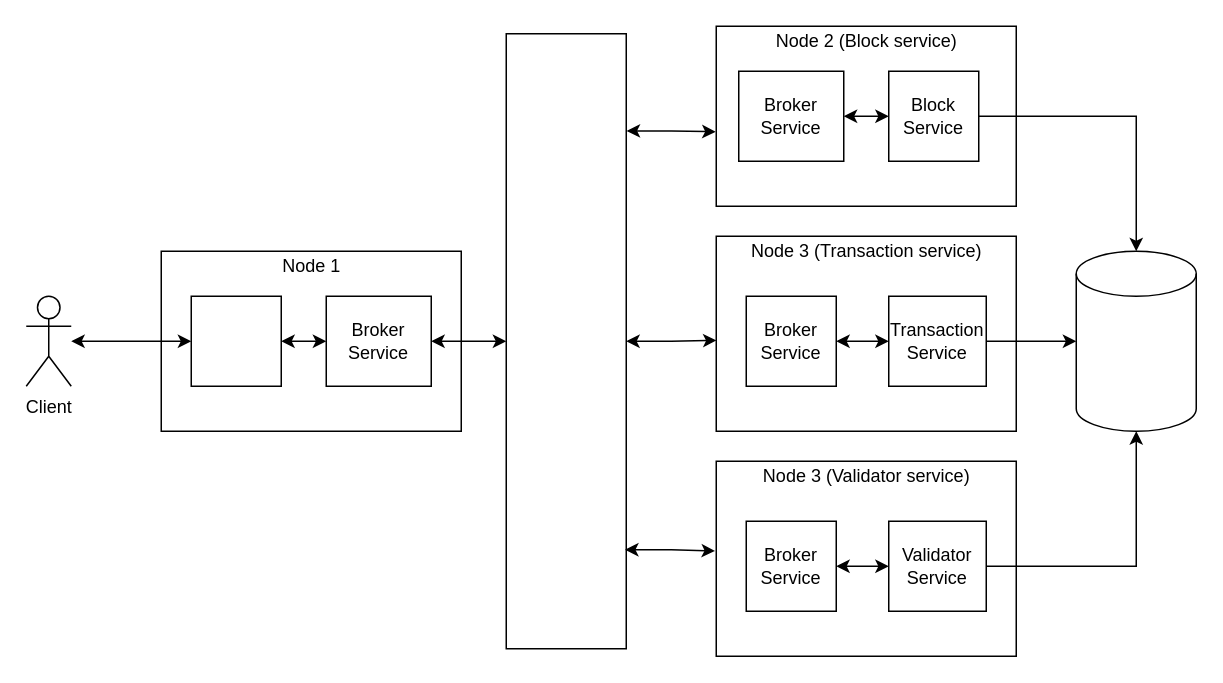
This 1223x683 diagram has some shape labels left out. Here are the shapes that lost their labels. From the top down, the box of each, then its label:
(190, 295, 281, 386): Gateway Service
(505, 32, 626, 649): Transporter
(1075, 250, 1196, 431): Mongo DB
